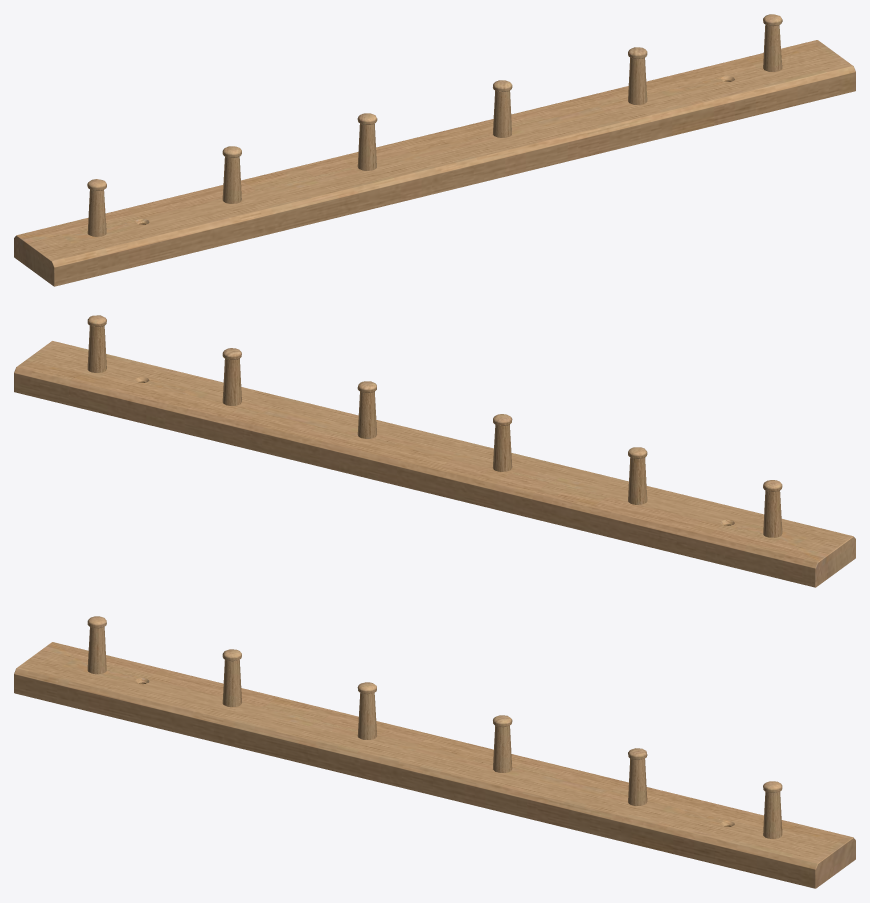
File: hovolm_wieszak_z_6_gakami_10500059.glb
3 renders of one model, top to bottom at view 1: azimuth 30°, elevation 25°; view 2: azimuth 150°, elevation 25°; view 3: azimuth 330°, elevation 25°, orthographic.
Parts seen in each view (by area): view 1: hovolm_wieszak_z_6_gakami_10500059; view 2: hovolm_wieszak_z_6_gakami_10500059; view 3: hovolm_wieszak_z_6_gakami_10500059.
Boxes of the visible parts, x1=… form: hovolm_wieszak_z_6_gakami_10500059: x1=14, y1=14, x2=855, y2=286; hovolm_wieszak_z_6_gakami_10500059: x1=14, y1=315, x2=855, y2=587; hovolm_wieszak_z_6_gakami_10500059: x1=14, y1=616, x2=855, y2=888.
Bounding box in the file's own units: 0.57 × 0.051 × 0.05.
Materials: 1 (1 with a texture image).
